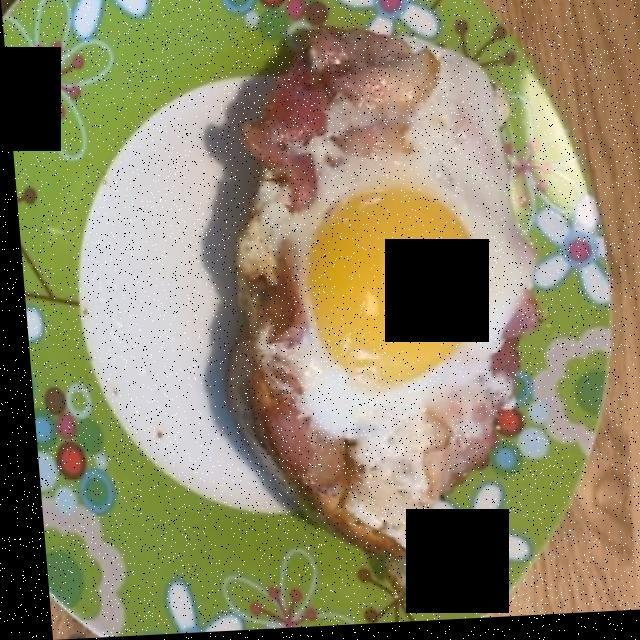bacon: (240, 184, 527, 587), (224, 28, 454, 213)
egg: (235, 29, 526, 579)
